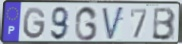7: (129, 8, 148, 40)
9: (50, 5, 71, 42)
B: (151, 7, 177, 42)
G: (73, 5, 99, 42), (22, 6, 48, 41)
V: (101, 6, 126, 43)
